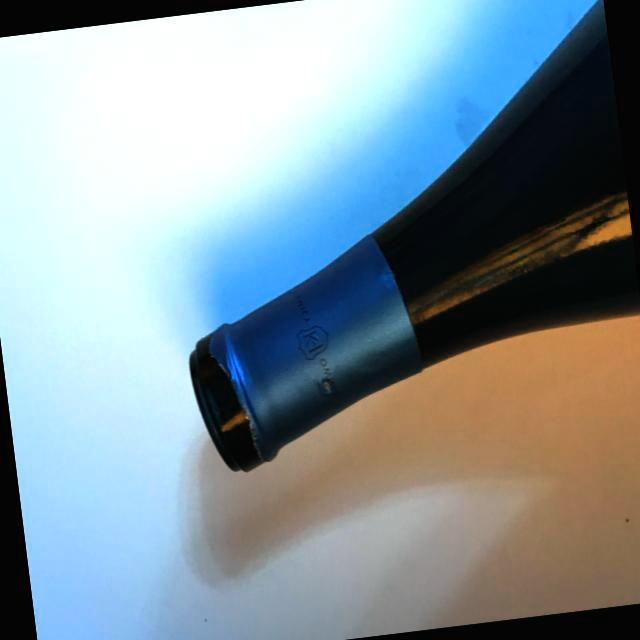glass: (143, 0, 640, 480)
